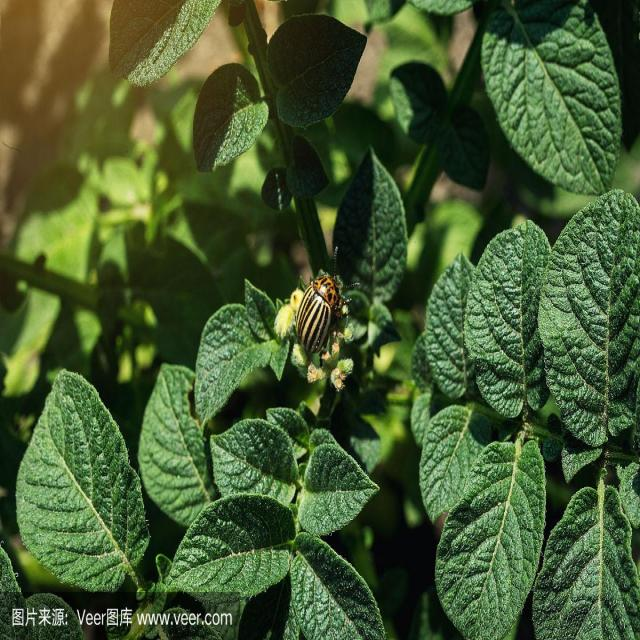ShuCaiHuaBanChong-Grown-: (281, 253, 345, 363)
